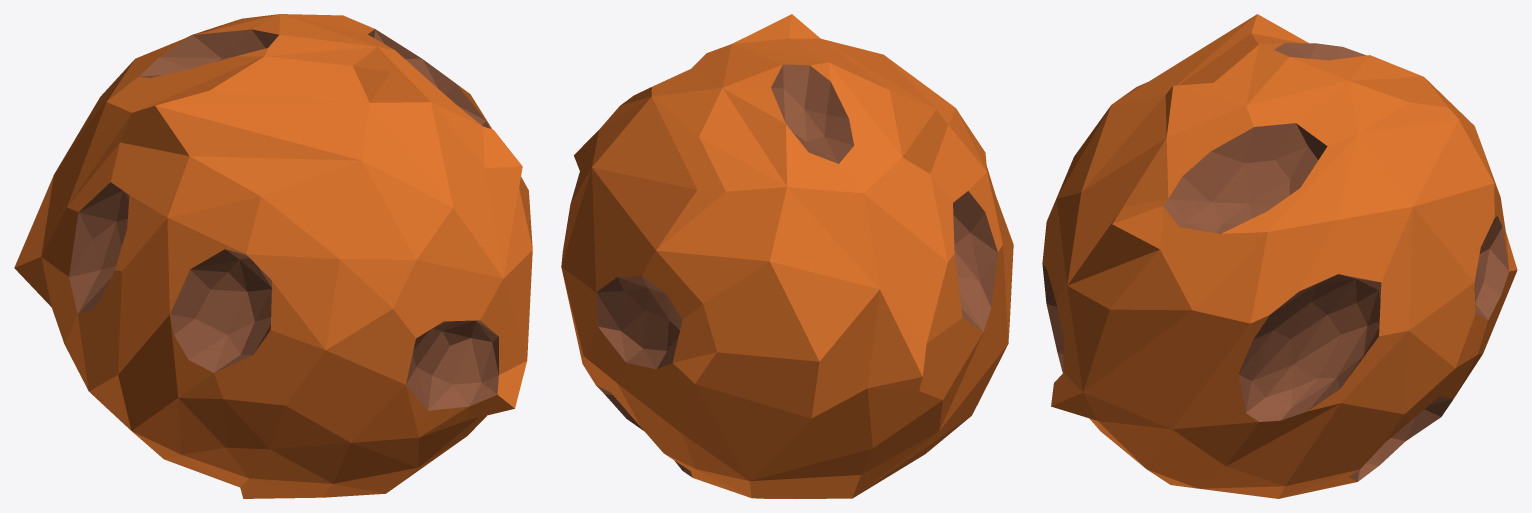
Rendered from Planet9.glb.
3 views of the same model, side by side, from view 1: azimuth 30°, elevation 25°; view 2: azimuth 150°, elevation 25°; view 3: azimuth 270°, elevation 25° (orthographic). The views are drawn at different scales.
Parts seen in each view (by area): view 1: Planet16; view 2: Planet16; view 3: Planet16.
Part boxes in pixels (x1=…): Planet16: x1=14, y1=14, x2=532, y2=498; Planet16: x1=561, y1=14, x2=1013, y2=498; Planet16: x1=1042, y1=14, x2=1517, y2=498.
Size of the model in its own units: 10.9 by 10.7 by 11.11.
1 material, 1 textured.
